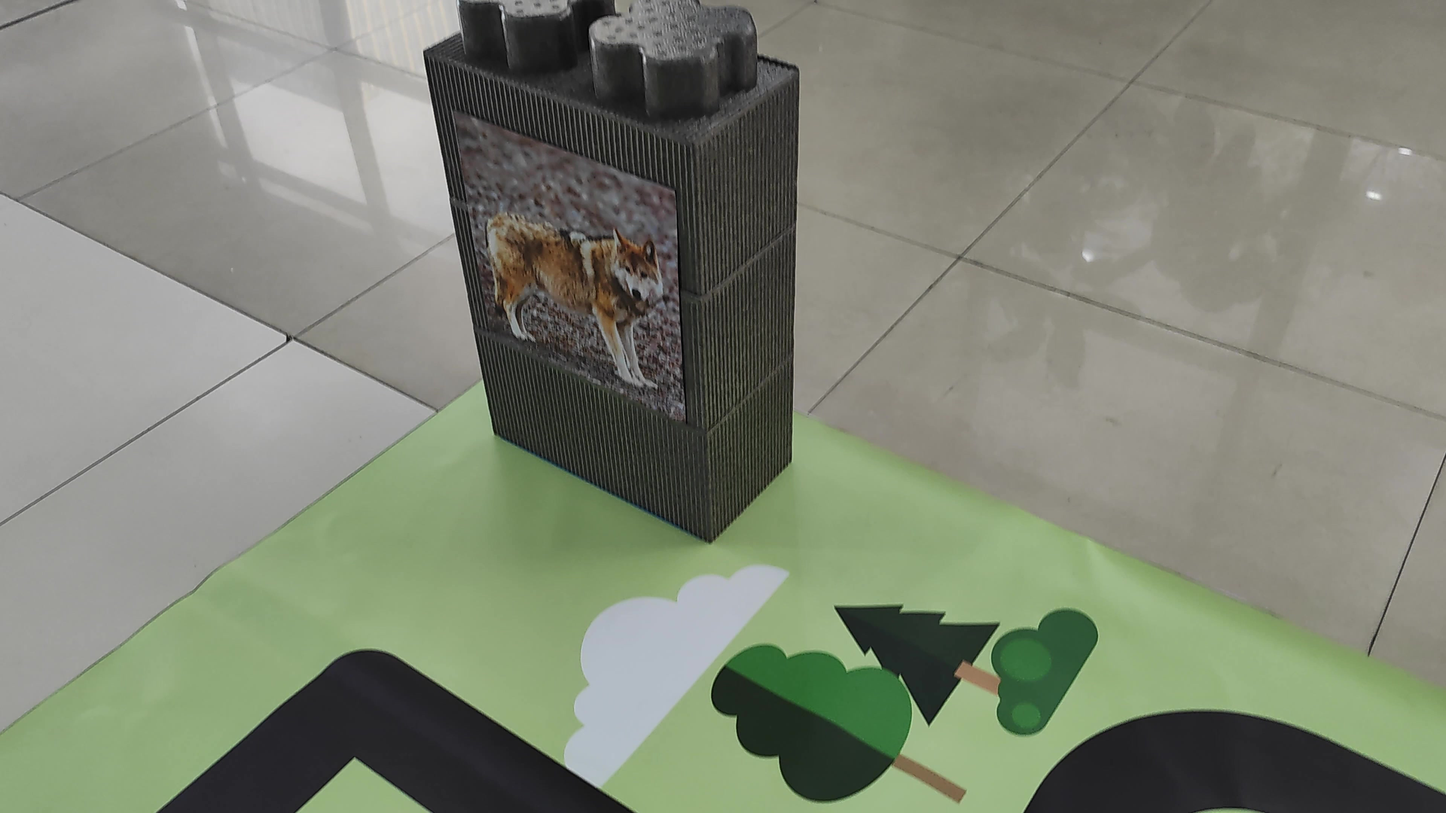wolf: (465, 142, 683, 381)
